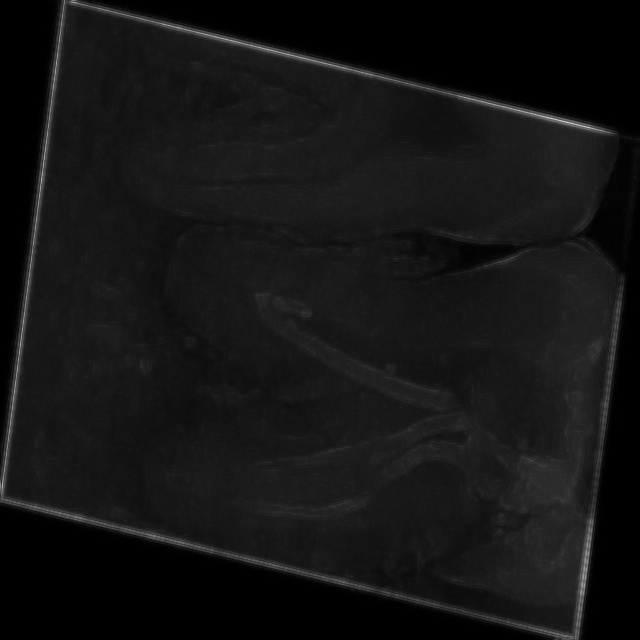Class 2- incomplete endodontic treatment: (118, 119, 624, 639)
